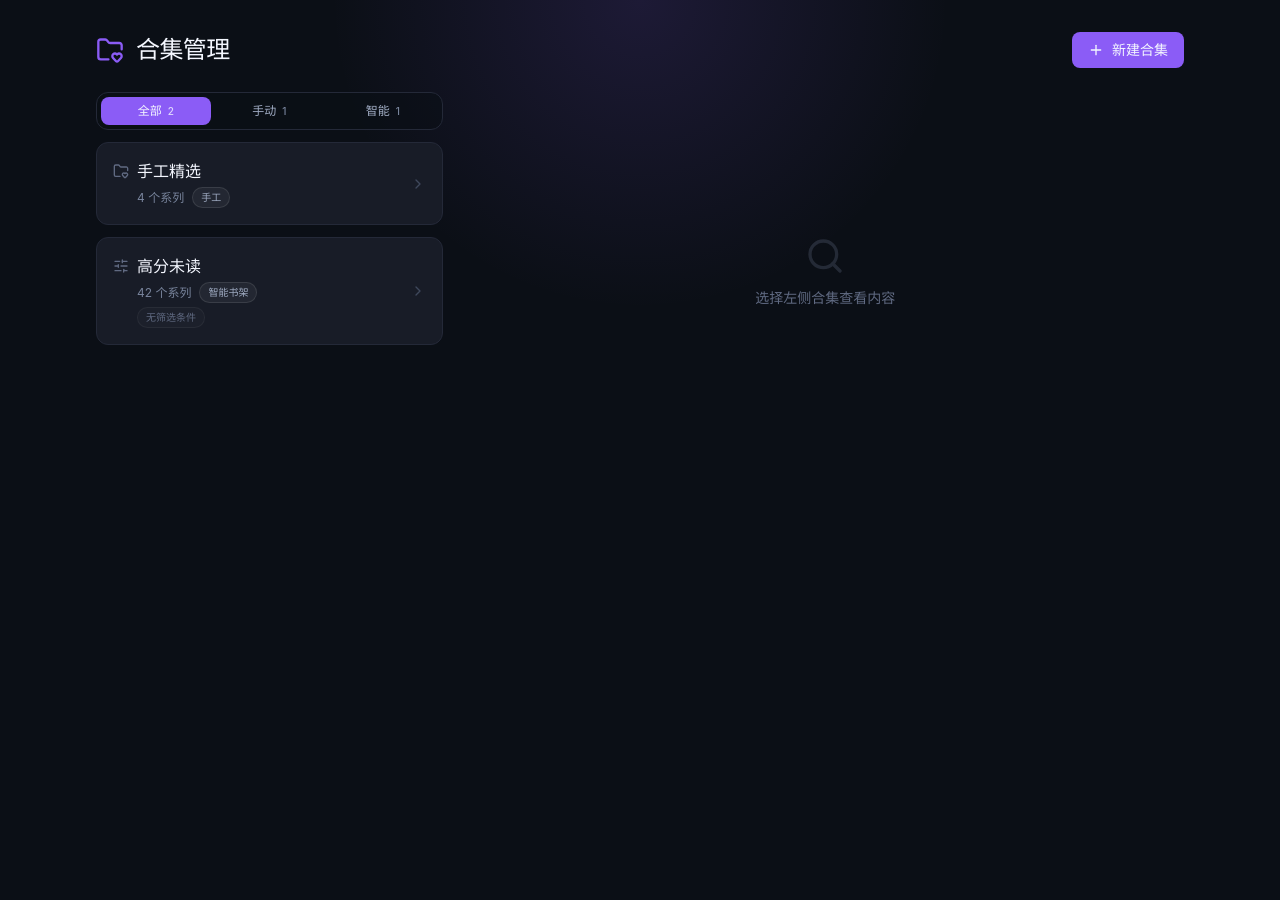
Test: 合集页右栏的成员加载 › 智能书架命中数超过一页时，首屏只取一页但计数报总数，且能加载出全部成员
The width and height of the screenshot is (1280, 900).
Click the text "高分未读". click: (169, 266)
box: [137, 254, 201, 278]
(page scrolled)
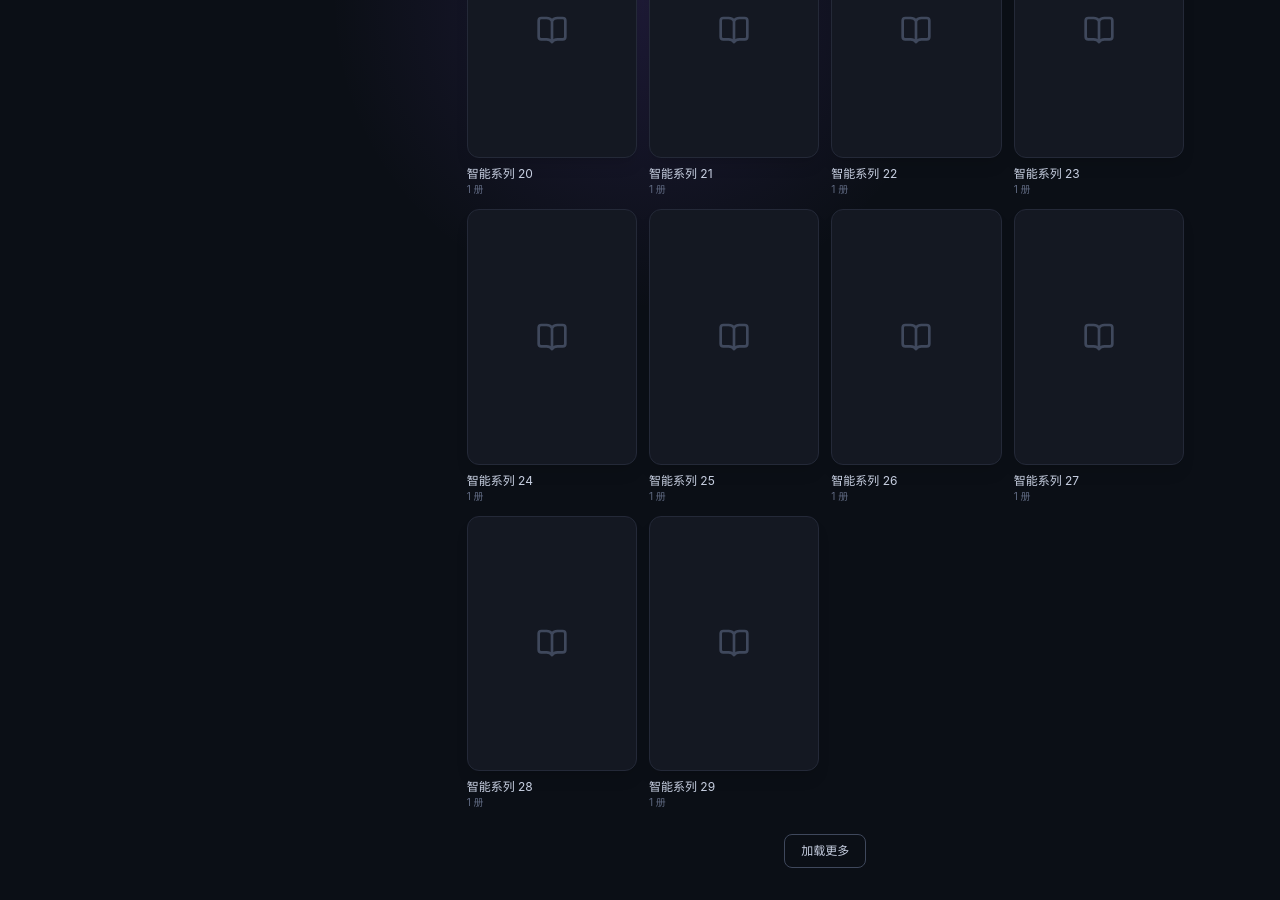
Click the button "加载更多". click: (825, 851)
box: [784, 834, 866, 868]
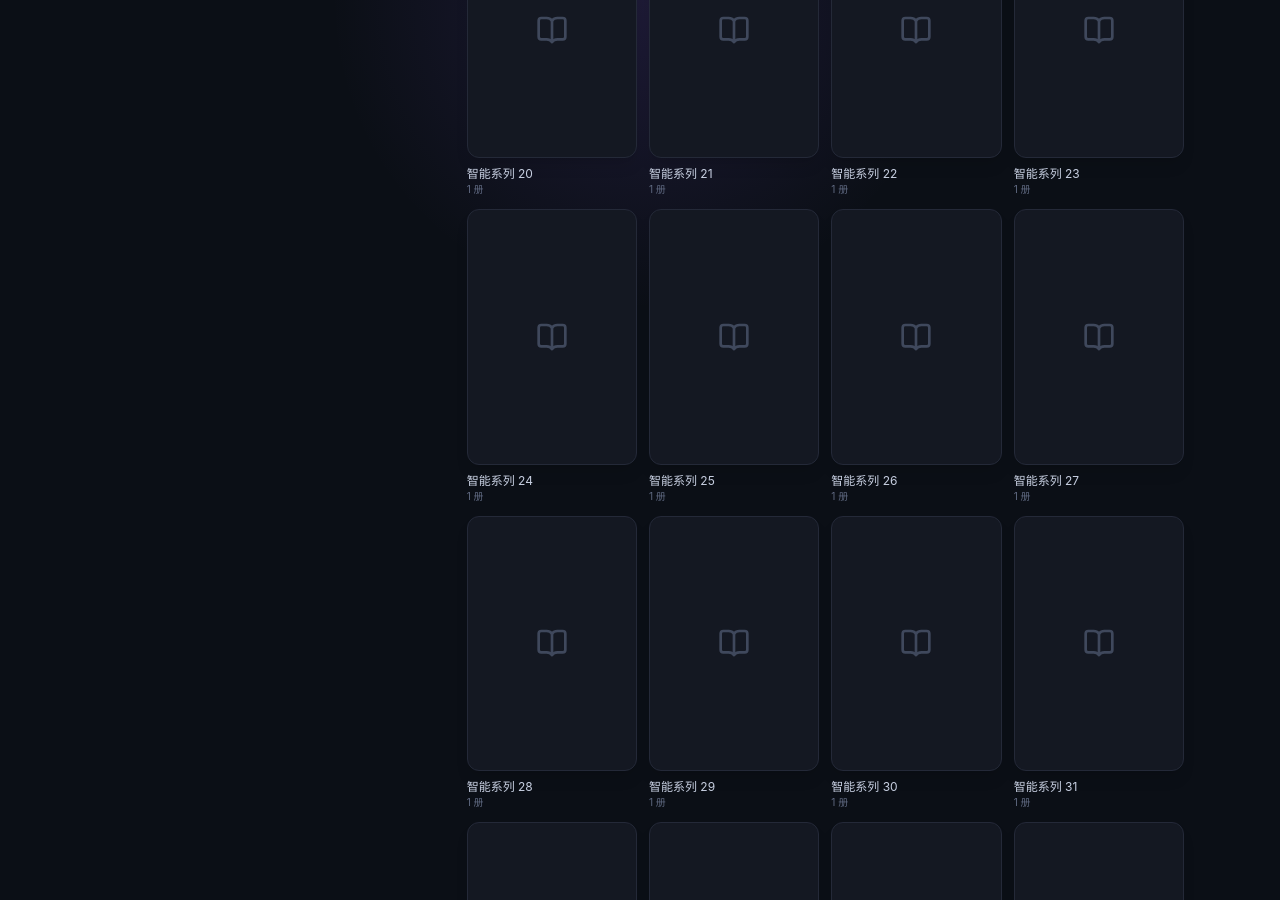
Check: the button "加载更多" is gone
